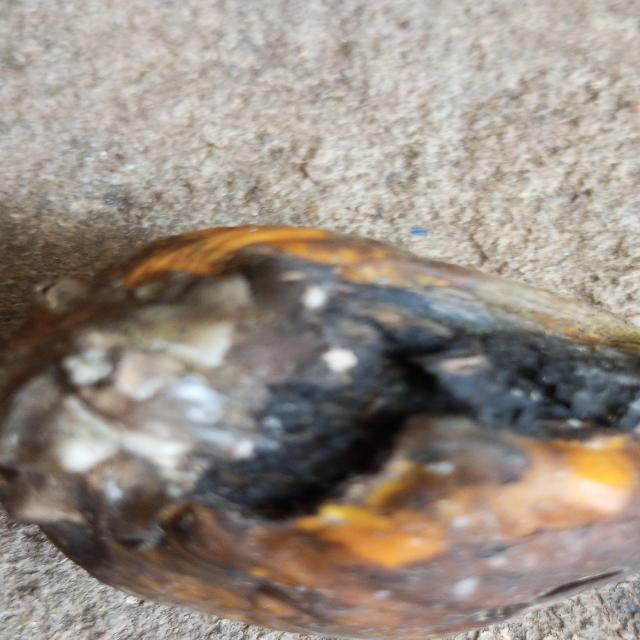damaged: (0, 225, 640, 640)
